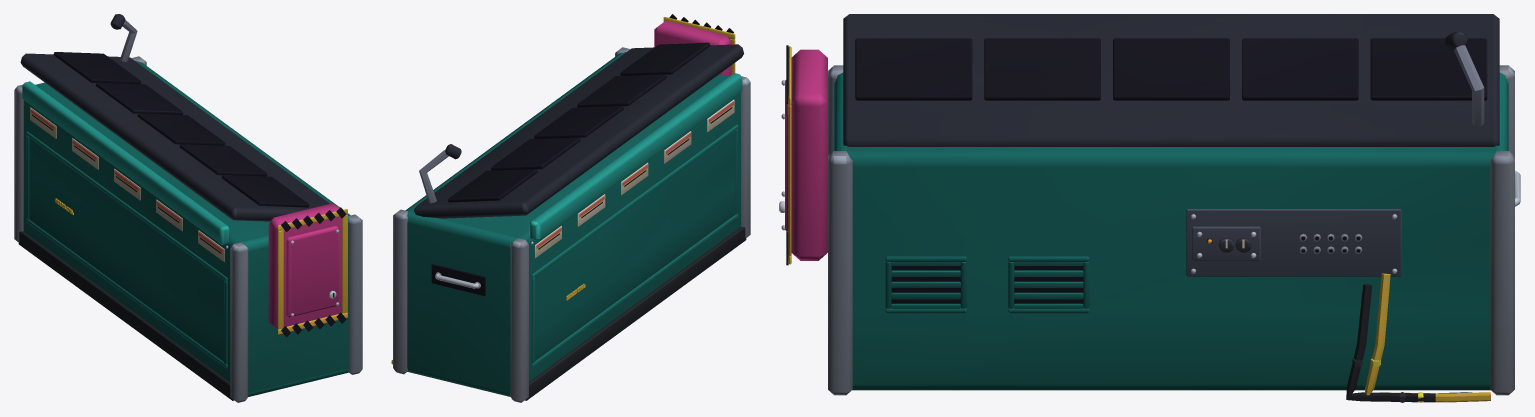
File: SM_Station_SharkRig_Desk.fbx
3 views of the same model, side by side, from view 1: azimuth 30°, elevation 25°; view 2: azimuth 150°, elevation 25°; view 3: azimuth 270°, elevation 25° (orthographic). The views are drawn at different scales.
Visible parts, largest first — view 1: SM_Station_SharkRig_Desk; view 2: SM_Station_SharkRig_Desk; view 3: SM_Station_SharkRig_Desk.
Part boxes in pixels (<box>): SM_Station_SharkRig_Desk: <box>14,14,362,402</box>; SM_Station_SharkRig_Desk: <box>391,14,750,402</box>; SM_Station_SharkRig_Desk: <box>779,14,1520,402</box>.
Bounding box in the file's own units: 81.46 × 121 × 242.
